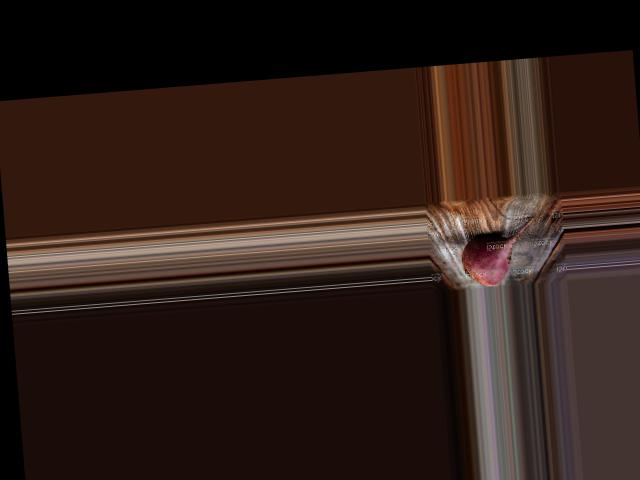beet: (459, 216, 539, 287)
